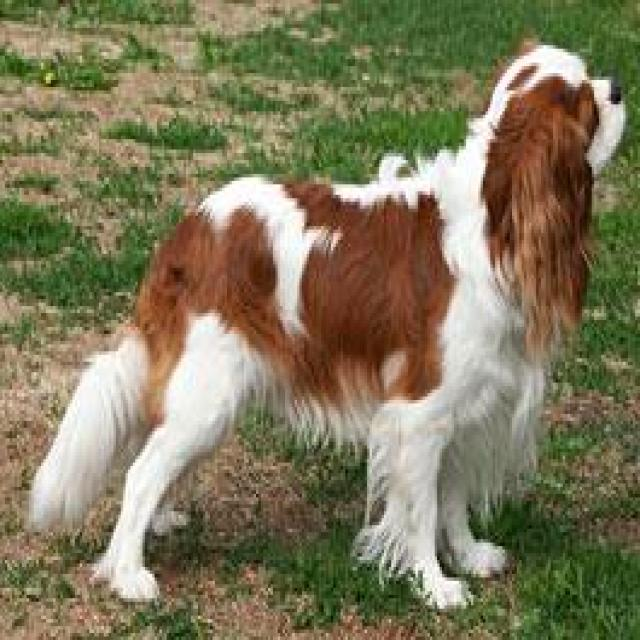blenheim_spaniel: (29, 42, 630, 616)
